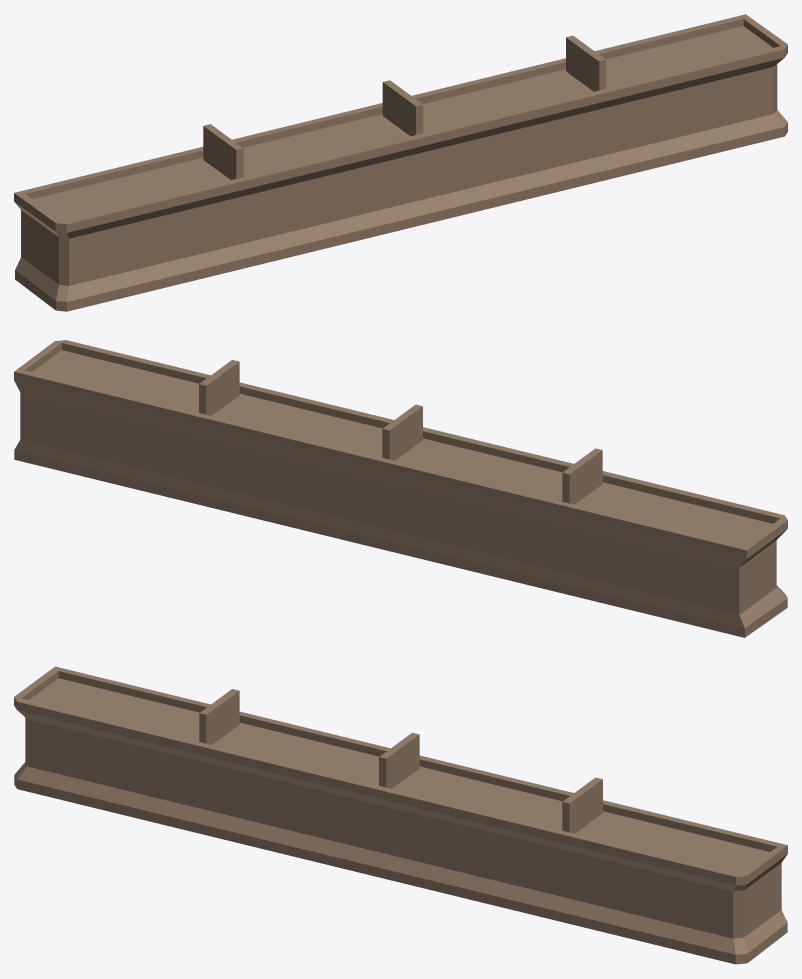
The model's file is w_r_showcase_long.glb.
The picture shows the model from 3 angles, top to bottom: view 1: azimuth 30°, elevation 25°; view 2: azimuth 150°, elevation 25°; view 3: azimuth 330°, elevation 25°; orthographic projection.
Visible parts, largest first — view 1: Cube; view 2: Cube; view 3: Cube.
Part boxes in pixels (x1,y1,x2,y2): Cube: (14, 14, 787, 311); Cube: (14, 340, 787, 637); Cube: (14, 666, 787, 964).
Bounding box in the file's own units: 20.4 × 3.04 × 2.22.
